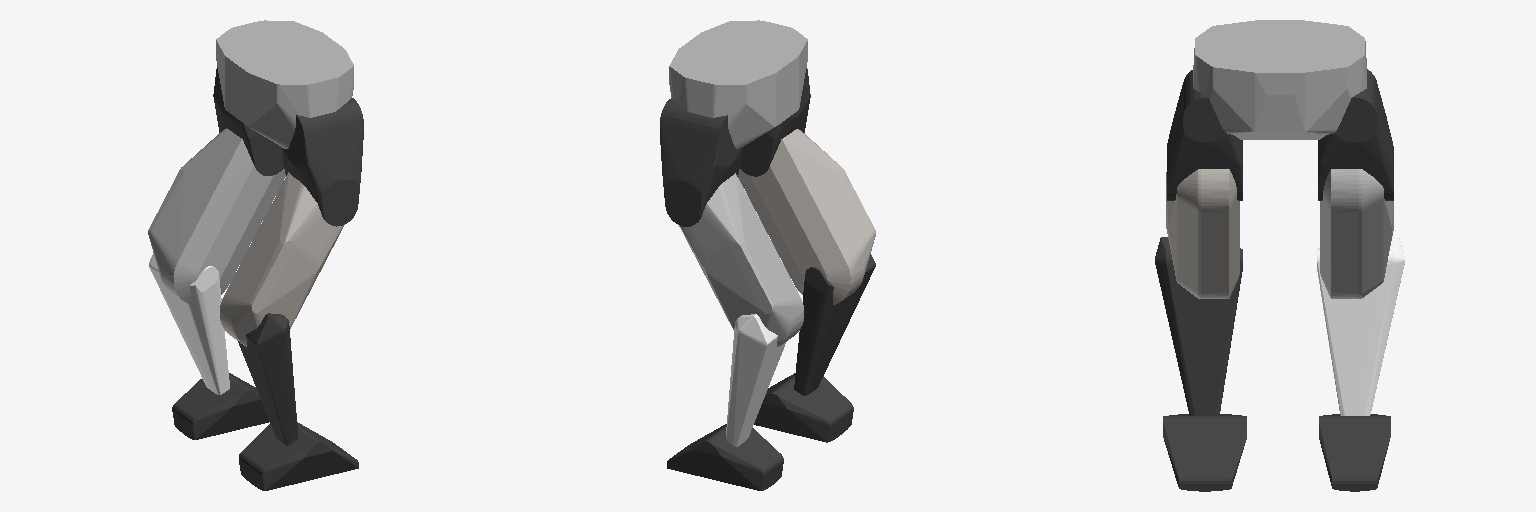
robot.urdf — spryped_urdf_rev06:
<?xml version="1.0" encoding="utf-8"?>
<!-- This URDF was automatically created by SolidWorks to URDF Exporter! Originally created by [author] ([email redacted]) 
     Commit Version: 1.5.1-0-g916b5db  Build Version: 1.5.7152.31018
     For more information, please see http://wiki.ros.org/sw_urdf_exporter -->
<robot
  name="spryped_urdf_rev06">
  <link
    name="body">
    <inertial>
      <origin
        xyz="0.047181 -3.0609E-06 0.076165"
        rpy="0 0 0" />
      <mass
        value="30.7038" />
      <inertia
        ixx="0.0033545"
        ixy="-3.2672E-09"
        ixz="8.3384E-06"
        iyy="0.0042956"
        iyz="-2.3336E-06"
        izz="0.0059126" />
    </inertial>
    <visual>
      <origin
        xyz="0 0 0"
        rpy="0 0 0" />
      <geometry>
        <mesh
          filename="body.obj"  scale="1 0.6 1"/>
      </geometry>
      <material
        name="">
        <color
          rgba="0.75294 0.75294 0.75294 1" />
      </material>
    </visual>
    <collision>
      <origin
        xyz="0 0 0"
        rpy="0 0 0" />
      <geometry>
        <mesh
          filename="body.obj" scale="1 0.6 1"/>
      </geometry>
    </collision>
  </link>
  <link
    name="left femur">
    <inertial>
      <origin
        xyz="0.00069777 0.056842 0.0014637"
        rpy="0 0 0" />
      <mass
        value="2.30999" />
      <inertia
        ixx="0.00070116"
        ixy="3.5726E-05"
        ixz="9.483E-08"
        iyy="0.00059024"
        iyz="-3.5642E-05"
        izz="0.00069104" />
    </inertial>
    <visual>
      <origin
        xyz="0 0 0"
        rpy="0 0 0" />
      <geometry>
        <mesh
          filename="left femur.obj"  />
      </geometry>
      <material
        name="">
        <color
          rgba="0.29804 0.29804 0.29804 1"  />
      </material>
    </visual>
    <collision>
      <origin
        xyz="0 0 0"
        rpy="0 0 0" />
      <geometry>
        <mesh
          filename="left femur.obj"  />
      </geometry>
    </collision>
  </link>
  <joint
    name="1"
    type="revolute">
    <origin
      xyz="0.051822 0.1 0.055904"
      rpy="-1.5708 0 0" />
    <parent
      link="body" />
    <child
      link="left femur" />
    <axis
      xyz="1 0 0" />
    <limit
      lower="0"
      upper="3.14"
      effort="80"
      velocity="10" />
    <dynamics damping="0.0" friction="0.0"/>
  </joint>
  <link
    name="left tibiotarsus">
    <inertial>
      <origin
        xyz="-0.0535 0.08423 -0.00048074"
        rpy="0 0 0" />
      <mass
        value="5.8773" />
      <inertia
        ixx="0.0034958"
        ixy="0.0014826"
        ixz="-8.2901E-08"
        iyy="0.0022584"
        iyz="1.2361E-07"
        izz="0.0053351" />
    </inertial>
    <visual>
      <origin
        xyz="0 0 0"
        rpy="0 0 0" />
      <geometry>
        <mesh
          filename="left tibiotarsus.obj" />
      </geometry>
      <material
        name="">
        <color
          rgba="0.75294 0.75294 0.75294 1" />
      </material>
    </visual>
    <collision>
      <origin
        xyz="0 0 0"
        rpy="0 0 0" />
      <geometry>
        <mesh
          filename="left tibiotarsus.obj"  />
      </geometry>
    </collision>
  </link>
  <joint
    name="2"
    type="revolute">
    <origin
      xyz="0 0.114 0"
      rpy="0 0 0" />
    <parent
      link="left femur" />
    <child
      link="left tibiotarsus" />
    <axis
      xyz="0 0 -1" />
    <limit
      lower="-0.5"
      upper="1.6"
      effort="80"
      velocity="15" />
    <dynamics damping="0.0" friction="0.0"/>
  </joint>
  <link
    name="left tarsometatarsus">
    <inertial>
      <origin
        xyz="0.053129 0.093369 0.015338"
        rpy="0 0 0" />
      <mass
        value="5.38839" />
      <inertia
        ixx="0.00096573"
        ixy="-0.00056636"
        ixz="-1.259E-05"
        iyy="0.0010982"
        iyz="4.5106E-05"
        izz="0.0015965" />
    </inertial>
    <visual>
      <origin
        xyz="0 0 0"
        rpy="0 0 0" />
      <geometry>
        <mesh
          filename="left tarsometatarsus.obj" scale="0.5 0.5 1" />
      </geometry>
      <material
        name="">
        <color
          rgba="1 1 1 1" />
      </material>
    </visual>
    <collision>
      <origin
        xyz="0 0 0"
        rpy="0 0 0" />
      <geometry>
        <mesh
          filename="left tarsometatarsus.obj" scale="0.5 0.5 1" />
      </geometry>
    </collision>
  </link>
  <joint
    name="3"
    type="revolute">
    <origin
      xyz="-0.105453933582408 0.168761571135129 0"
      rpy="0 0 0.558505360638189" />
    <parent
      link="left tibiotarsus" />
    <child
      link="left tarsometatarsus" />
    <axis
      xyz="0 0 -1" />
    <limit
      lower="-3.14"
      upper="3.14"
      effort="80"
      velocity="15" />
    <dynamics damping="0.0" friction="0.0"/>
  </joint>
  <link
    name="left toe">
    <inertial>
      <origin
        xyz="-0.015193 0.829454 -8.5534E-11"
        rpy="0 0 0" />
      <mass
        value="0.11189" />
      <inertia
        ixx="4.0659E-05"
        ixy="-3.5337E-05"
        ixz="7.6361E-13"
        iyy="0.00018716"
        iyz="7.4475E-14"
        izz="0.00021756" />
    </inertial>
    <visual>
      <origin
        xyz="0 0 0"
        rpy="0 0 0" />
      <geometry>
        <mesh
          filename="left toe.obj"  scale="1 1 3" />
      </geometry>
      <material
        name="">
        <color
          rgba="0.29804 0.29804 0.29804 1" />
      </material>
    </visual>
    <collision>
      <origin
        xyz="0 0 0"
        rpy="0 0 0" />
      <geometry>
        <mesh
          filename="left toe.obj" scale="1 1 3.5" />
      </geometry>
    </collision>
  </link>
  <joint
    name="4"
    type="revolute">
    <origin
      xyz="0.168429623081206 0.14603956697683 -0.000249999999999057"
      rpy="0 0 -0.771008986271208" />
    <parent
      link="left tarsometatarsus" />
    <child
      link="left toe" />
    <axis
      xyz="0 0 -1" />
    <limit
      lower="-0.5"
      upper="0.8"
      effort="80"
      velocity="30" />
    <dynamics damping="0.0" friction="0.0"/>
  </joint>
  <link
    name="right femur">
    <inertial>
      <origin
        xyz="0.00069773 0.056842 -0.0014638"
        rpy="0 0 0" />
      <mass
        value="2.30999" />
      <inertia
        ixx="0.00070116"
        ixy="3.5726E-05"
        ixz="-9.5179E-08"
        iyy="0.00059025"
        iyz="3.5642E-05"
        izz="0.00069104" />
    </inertial>
    <visual>
      <origin
        xyz="0 0 0"
        rpy="0 0 0" />
      <geometry>
        <mesh
          filename="right femur.obj" />
      </geometry>
      <material
        name="">
        <color
          rgba="0.29804 0.29804 0.29804 1" />
      </material>
    </visual>
    <collision>
      <origin
        xyz="0 0 0"
        rpy="0 0 0" />
      <geometry>
        <mesh
          filename="right femur.obj" />
      </geometry>
    </collision>
  </link>
  <joint
    name="5"
    type="revolute">
    <origin
      xyz="0.051822 -0.1 0.055904"
      rpy="-1.5708 0 0" />
    <parent
      link="body" />
    <child
      link="right femur" />
    <axis
      xyz="1 0 0" />
    <limit
      lower="-3.14"
      upper="0"
      effort="80"
      velocity="10" />
    <dynamics damping="0.0" friction="0.0"/>
  </joint>
  <link
    name="right tibiotarsus">
    <inertial>
      <origin
        xyz="-0.053501 0.08423 0.00041314"
        rpy="0 0 0" />
      <mass
        value="5.8772" />
      <inertia
        ixx="0.0034958"
        ixy="0.0014826"
        ixz="7.9551E-08"
        iyy="0.0022584"
        iyz="-1.374E-07"
        izz="0.0053351" />
    </inertial>
    <visual>
      <origin
        xyz="0 0 0"
        rpy="0 0 0" />
      <geometry>
        <mesh
          filename="right tibiotarsus.obj" />
      </geometry>
      <material
        name="">
        <color
          rgba="0.77647 0.75686 0.73725 1" />
      </material>
    </visual>
    <collision>
      <origin
        xyz="0 0 0"
        rpy="0 0 0" />
      <geometry>
        <mesh
          filename="right tibiotarsus.obj" />
      </geometry>
    </collision>
  </link>
  <joint
    name="6"
    type="revolute">
    <origin
      xyz="0 0.114000000000013 0"
      rpy="0 0 0" />
    <parent
      link="right femur" />
    <child
      link="right tibiotarsus" />
    <axis
      xyz="0 0 1" />
    <limit
      lower="-1.5"
      upper="0.6"
      effort="80"
      velocity="15" />
    <dynamics damping="0.0" friction="0.0"/>
  </joint>
  <link
    name="right tarsometatarsus">
    <inertial>
      <origin
        xyz="0.053129 0.093369 -0.015837"
        rpy="0 0 0" />
      <mass
        value="5.38839" />
      <inertia
        ixx="0.00096573"
        ixy="-0.00056636"
        ixz="1.2589E-05"
        iyy="0.0010982"
        iyz="-4.5106E-05"
        izz="0.0015965" />
    </inertial>
    <visual>
      <origin
        xyz="0 0 0"
        rpy="0 0 0" />
      <geometry>
        <mesh
          filename="right tarsometatarsus.obj" scale="0.5 0.5 1" />
      </geometry>
      <material
        name="">
        <color
          rgba="0.29804 0.29804 0.29804 1" />
      </material>
    </visual>
    <collision>
      <origin
        xyz="0 0 0"
        rpy="0 0 0" />
      <geometry>
        <mesh
          filename="right tarsometatarsus.obj"  scale="0.5 0.5 1"/>
      </geometry>
    </collision>
  </link>
  <joint
    name="7"
    type="revolute">
    <origin
      xyz="-0.105453933582408 0.168761571135127 0"
      rpy="0 0 0.55850536063819" />
    <parent
      link="right tibiotarsus" />
    <child
      link="right tarsometatarsus" />
    <axis
      xyz="0 0 1" />
    <limit
      lower="-3.14"
      upper="3.14"
      effort="80"
      velocity="15" />
    <dynamics damping="0.0" friction="0.0"/>
  </joint>
  <link
    name="right toe">
    <inertial>
      <origin
        xyz="-0.015193 0.829454 -8.5534E-11"
        rpy="0 0 0" />
      <mass
        value="0.11189" />
      <inertia
        ixx="4.0659E-05"
        ixy="-3.5337E-05"
        ixz="7.6361E-13"
        iyy="0.00018716"
        iyz="7.4475E-14"
        izz="0.00021756" />
    </inertial>
    <visual>
      <origin
        xyz="0 0 0"
        rpy="0 0 0" />
      <geometry>
        <mesh
          filename="right toe.obj" scale="1 1 3.5"  />
      </geometry>
      <material
        name="">
        <color
          rgba="0.29804 0.29804 0.29804 1" />
      </material>
    </visual>
    <collision>
      <origin
        xyz="0 0 0"
        rpy="0 0 0" />
      <geometry>
        <mesh
          filename="right toe.obj" scale="1 1 3.5"  />
      </geometry>
    </collision>
  </link>
  <joint
    name="8"
    type="revolute">
    <origin
      xyz="0.168429623081206 0.14603956697683 -0.000249999999999057"
      rpy="0 0 -0.771008986271209" />
    <parent
      link="right tarsometatarsus" />
    <child
      link="right toe" />
    <axis
      xyz="0 0 1" />
    <limit
      lower="-0.8"
      upper="0.5"
      effort="80"
      velocity="30" />
    <dynamics damping="0.0" friction="0.0"/>
  </joint>
</robot>

--- What the picture shows (computed from the rendered views, not written in the file) ---
3 views of the same robot in one strip: view 1: azimuth 30°, elevation 25°; view 2: azimuth 150°, elevation 25°; view 3: azimuth 270°, elevation 25° (orthographic).
Model spryped_urdf_rev06 with 9 links and 8 joints (8 revolute), rooted at body, posed all joints at 0.
Links seen in each view (by area): view 1: left tibiotarsus, body, right tibiotarsus, right femur, right toe, left tarsometatarsus, right tarsometatarsus, left toe, left femur; view 2: right tibiotarsus, body, left tibiotarsus, left femur, right tarsometatarsus, left tarsometatarsus, left toe, right toe, right femur; view 3: body, right tibiotarsus, left tibiotarsus, right tarsometatarsus, left tarsometatarsus, right toe, left femur, right femur, left toe.
Link boxes in pixels (<box>): left tibiotarsus: <box>148,128,285,303</box>; body: <box>216,20,353,148</box>; right tibiotarsus: <box>220,172,343,346</box>; right femur: <box>282,98,363,226</box>; right toe: <box>239,422,358,490</box>; left tarsometatarsus: <box>149,253,229,394</box>; right tarsometatarsus: <box>238,313,297,445</box>; left toe: <box>172,373,269,439</box>; left femur: <box>213,67,283,175</box>; right tibiotarsus: <box>738,129,875,304</box>; body: <box>669,20,807,148</box>; left tibiotarsus: <box>679,173,803,346</box>; left femur: <box>660,98,741,226</box>; right tarsometatarsus: <box>794,254,875,395</box>; left tarsometatarsus: <box>726,314,785,446</box>; left toe: <box>667,424,783,490</box>; right toe: <box>754,373,853,442</box>; right femur: <box>740,68,810,176</box>; body: <box>1193,20,1366,139</box>; right tibiotarsus: <box>1166,169,1239,298</box>; left tibiotarsus: <box>1320,169,1393,298</box>; right tarsometatarsus: <box>1155,237,1242,415</box>; left tarsometatarsus: <box>1317,237,1404,415</box>; right toe: <box>1163,414,1246,491</box>; left femur: <box>1318,69,1393,200</box>; right femur: <box>1167,70,1242,200</box>; left toe: <box>1319,414,1390,491</box>.
Size in the robot's own frame: 0.2348 by 0.3347 by 0.6349 metres.
Meshes: 9 distinct files referenced, 9 mesh visuals loaded (9 OBJ).